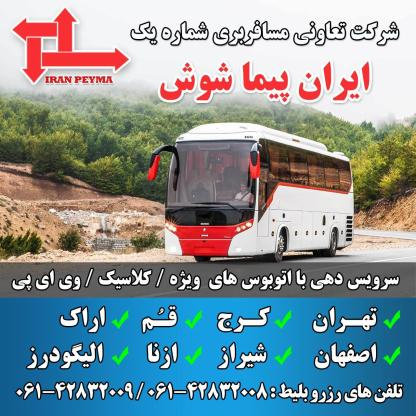Bus: (145, 105, 358, 273)
